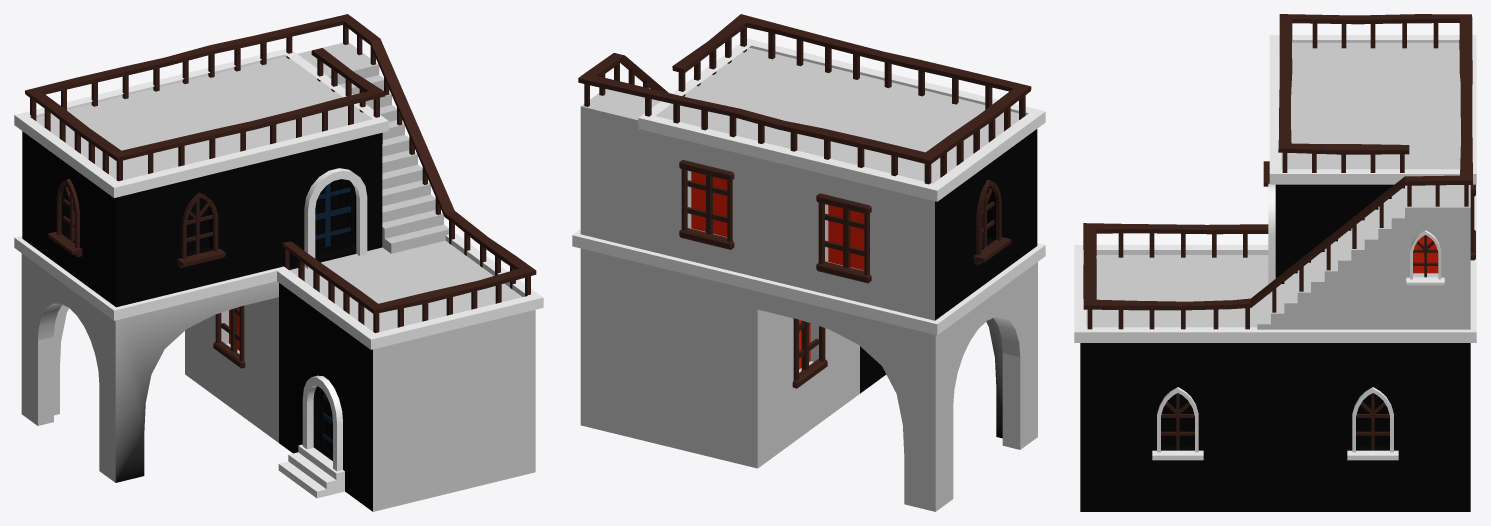
The model's file is civilian_house_33_c.FBX.
3 renders of one model, left to right at view 1: azimuth 30°, elevation 25°; view 2: azimuth 150°, elevation 25°; view 3: azimuth 270°, elevation 25°, orthographic. The views are drawn at different scales.
Visible parts, largest first — view 1: civilian_house_33_c; view 2: civilian_house_33_c; view 3: civilian_house_33_c.
Boxes of the visible parts, x1,y1,x2,y2 form: civilian_house_33_c: [14, 14, 543, 511]; civilian_house_33_c: [572, 14, 1045, 511]; civilian_house_33_c: [1074, 14, 1476, 511].
Size of the model in its own units: 1061 by 949 by 1030.
